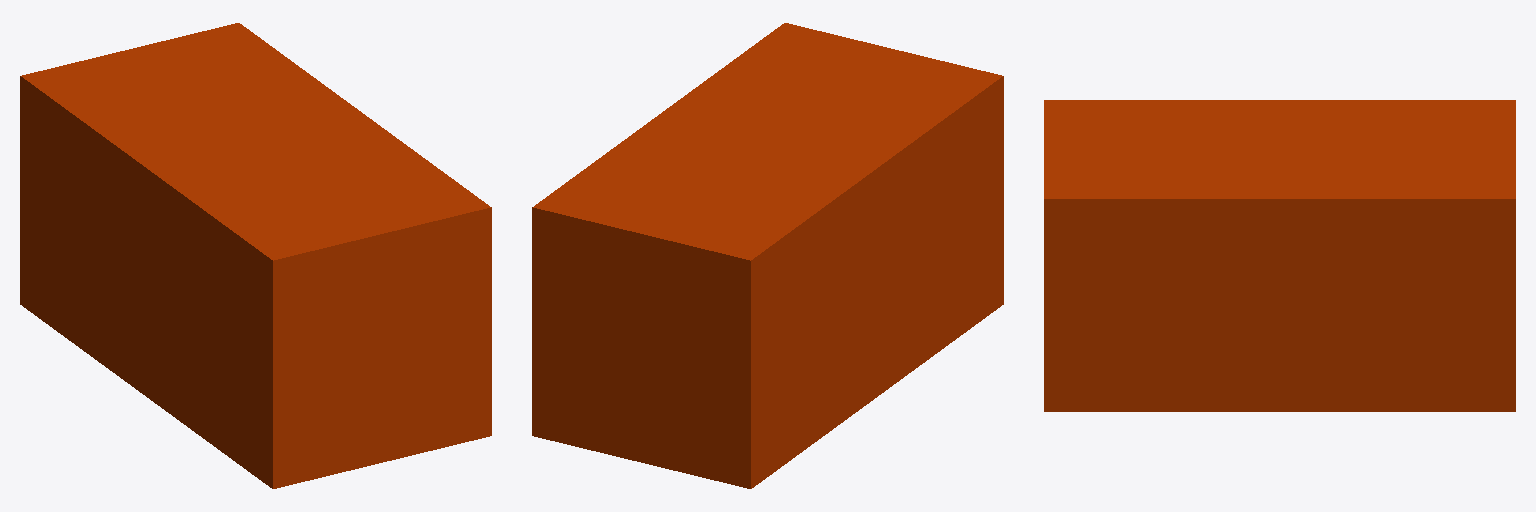
robot.urdf — brick_clone:
<robot name="brick_clone">
    <!-- control -->
    <link name="box1">
        <inertial>
            <mass value="0.2"/>
            <inertia ixx="0" ixy="0" ixz="0" iyy="0" iyz="0" izz="0"/>
        </inertial>
        <visual>
            <origin xyz="0 0 0" rpy="0 0 0"/>
            <geometry>
                <box size="0.04 0.08 0.04"/>
            </geometry>
            <material name="Black">
                <color rgba="0.7568 0.2902 0.0353 1.0"/>
            </material>
        </visual>
        <collision>
            <origin xyz="0 0 0" rpy="0 0 0"/>
            <geometry>
                <box size="0.04 0.08 0.04"/>
            </geometry>
        </collision> 
    </link>
</robot>

--- Render facts (derived) ---
3 views of the same robot in one strip: view 1: azimuth 30°, elevation 25°; view 2: azimuth 150°, elevation 25°; view 3: azimuth 270°, elevation 25° (orthographic).
Robot: brick_clone — 1 links, 0 joints (none); root link box1; default pose: all joints at 0.
Links seen in each view (by area): view 1: box1; view 2: box1; view 3: box1.
Boxes of the visible links, box(x1,y1,x2,y2) form: box1: box(20, 23, 491, 488); box1: box(532, 23, 1003, 488); box1: box(1044, 100, 1515, 411).
Bounding box of the posed robot: 0.04 × 0.08 × 0.04 m (x, y, z).
Geometry: primitives only (box / cylinder / sphere), no mesh files.